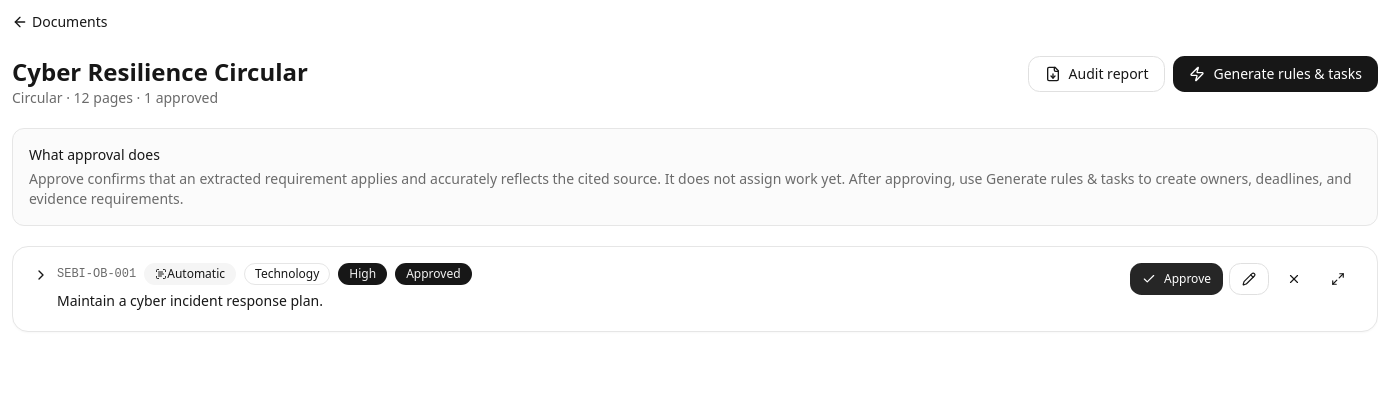
Test: Document review › shows generation failures next to the action
The width and height of the screenshot is (1390, 415).
Click the button "Generate rules & tasks".
click(1276, 74)  # box [1173,56,1378,92]
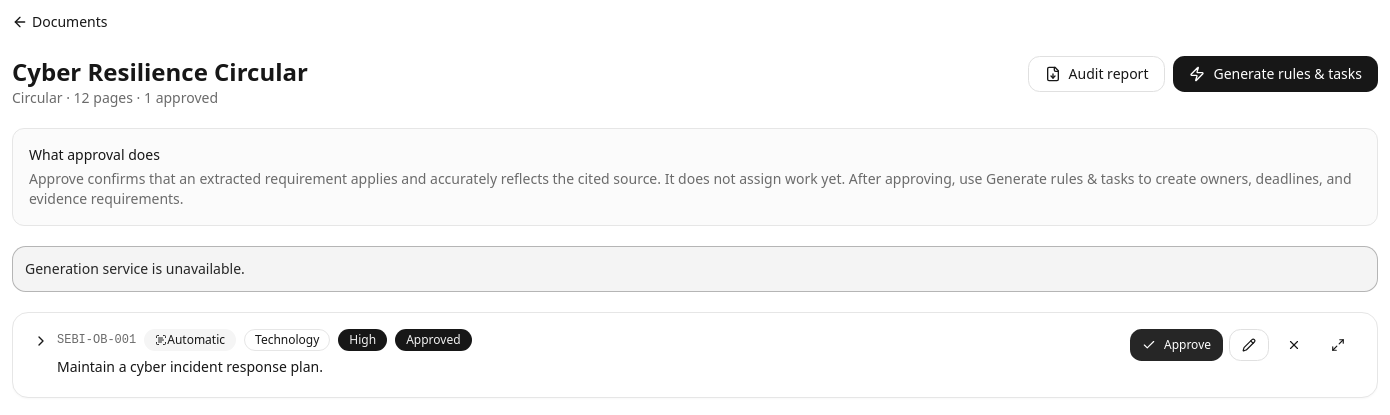
Result: the message reads "Generation service is unavailable." at [25,259,245,278]
